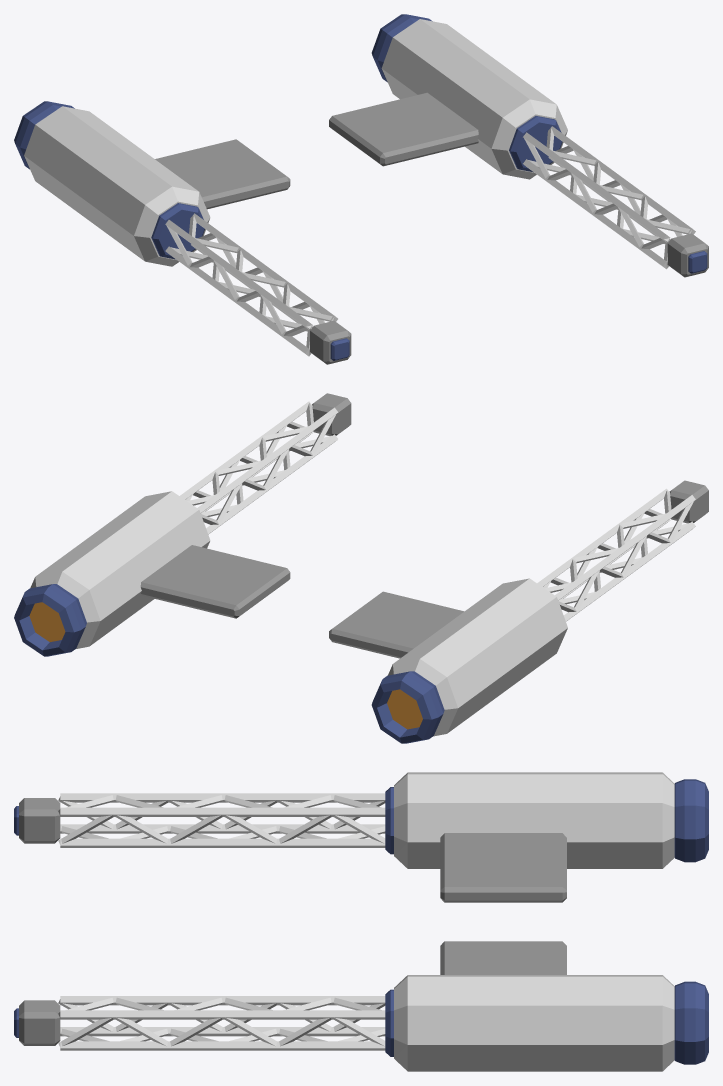
Rendered from engine_twin.obj.
3 views of the same model, one above another, from view 1: azimuth 30°, elevation 25°; view 2: azimuth 150°, elevation 25°; view 3: azimuth 270°, elevation 25° (orthographic). The views are drawn at different scales.
Size of the model in its own units: 3.4 by 0.6 by 4.06.
